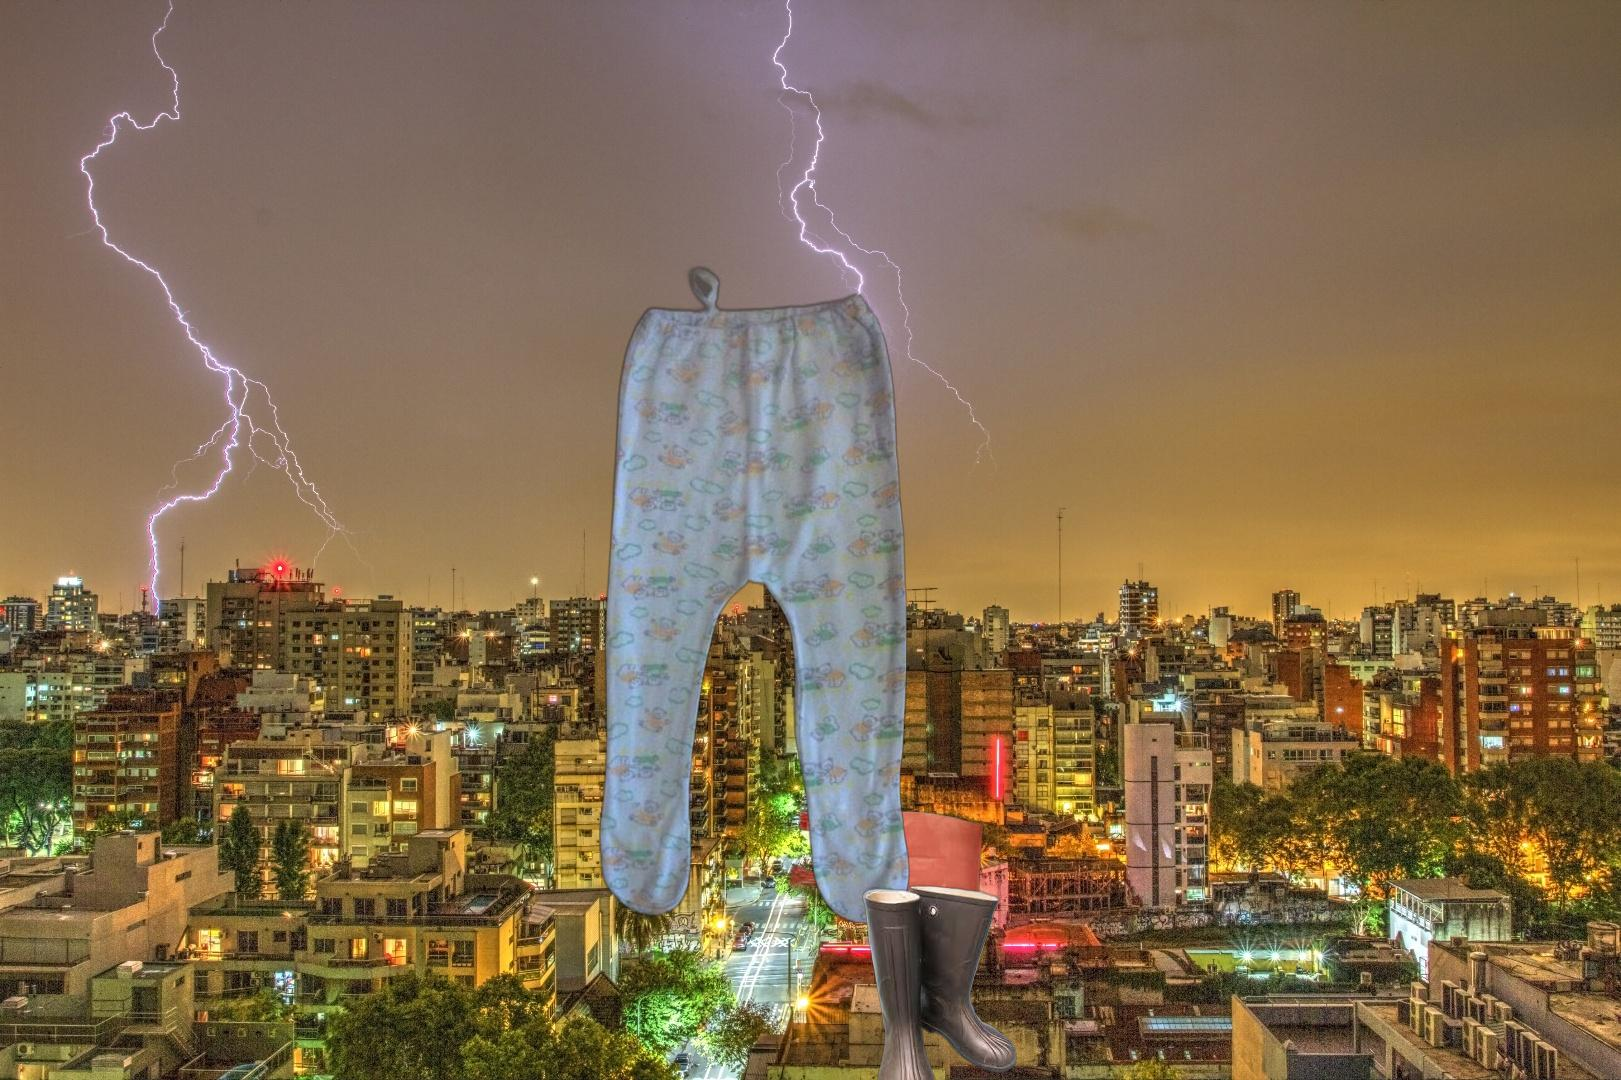clothes: (599, 262, 914, 931)
plastic-bag: (732, 721, 1030, 992)
shoes: (861, 884, 1018, 1080)
